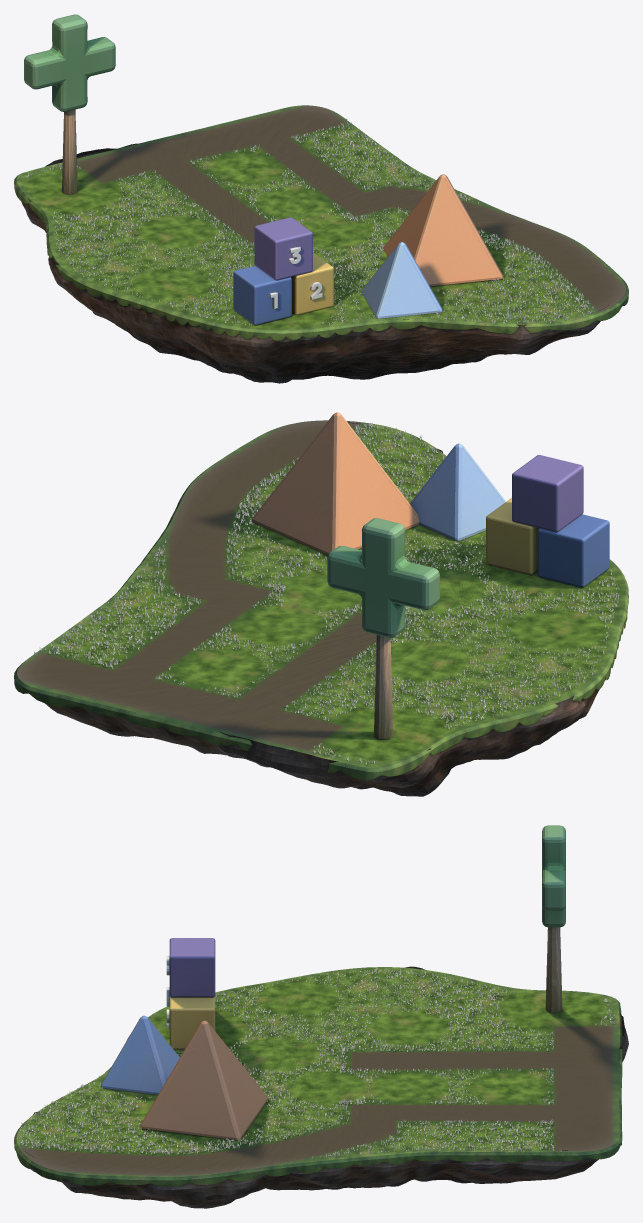
Rendered from region-maths-nombres.glb.
3 views of the same model, one above another, from view 1: azimuth 30°, elevation 25°; view 2: azimuth 150°, elevation 25°; view 3: azimuth 270°, elevation 25° (orthographic). The views are drawn at different scales.
Visible parts, largest first — view 1: region, reperes, brins; view 2: region, reperes, brins; view 3: region, reperes, brins.
Part boxes in pixels (left/top/right/bottom): region: left=14, top=105, right=628, bottom=383; reperes: left=24, top=14, right=503, bottom=325; brins: left=26, top=118, right=594, bottom=325; region: left=14, top=420, right=628, bottom=796; reperes: left=251, top=412, right=609, bottom=739; brins: left=34, top=423, right=619, bottom=764; region: left=14, top=966, right=628, bottom=1208; reperes: left=101, top=825, right=565, bottom=1140; brins: left=17, top=968, right=614, bottom=1158.
Size of the model in its own units: 25.01 by 16.12 by 30.61.
Materials: 3 (2 with a texture image).
